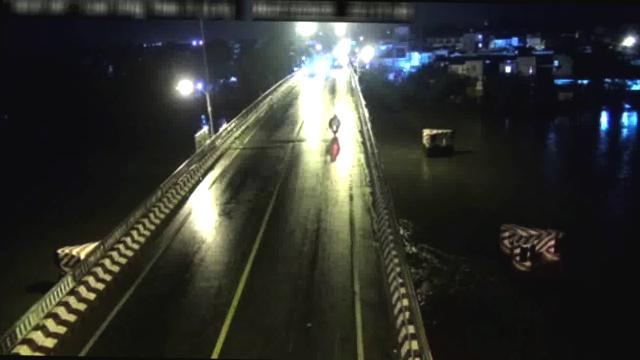Bike: (328, 112, 338, 136)
